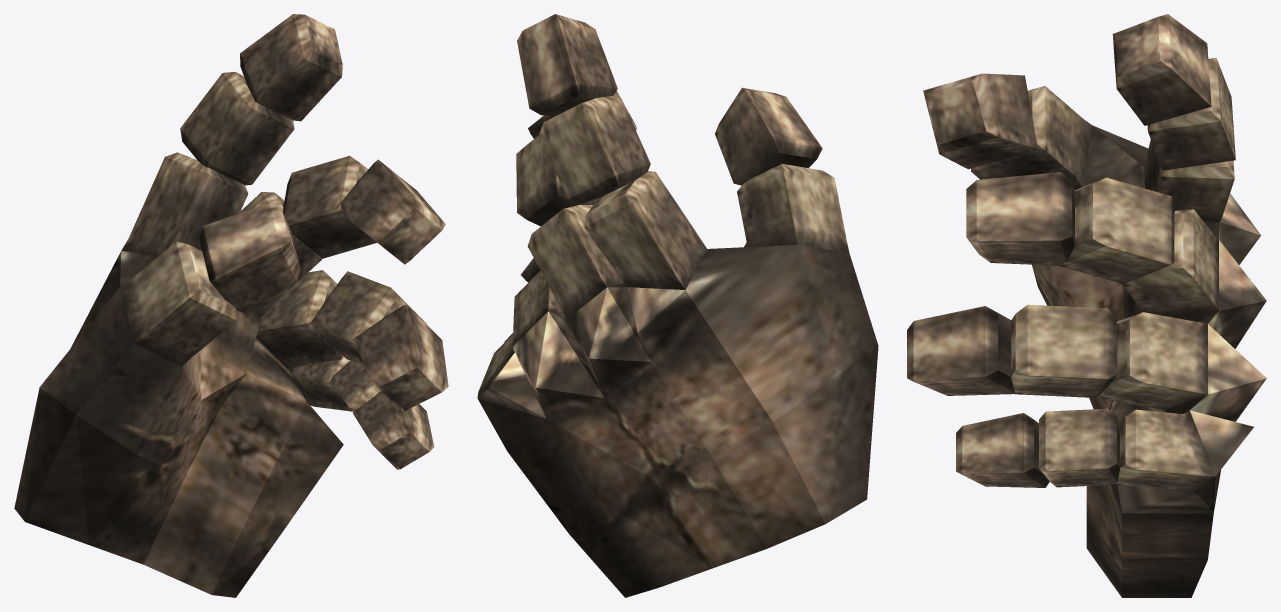
3 renders of one model, left to right at view 1: azimuth 30°, elevation 25°; view 2: azimuth 150°, elevation 25°; view 3: azimuth 270°, elevation 25°, orthographic. The views are drawn at different scales.
Visible parts, largest first — view 1: SMDImport; view 2: SMDImport; view 3: SMDImport.
Part boxes in pixels (bbox=[...]): SMDImport: bbox=[14, 14, 448, 597]; SMDImport: bbox=[477, 14, 878, 597]; SMDImport: bbox=[907, 14, 1266, 597].
Size of the model in its own units: 216 by 308 by 160.
